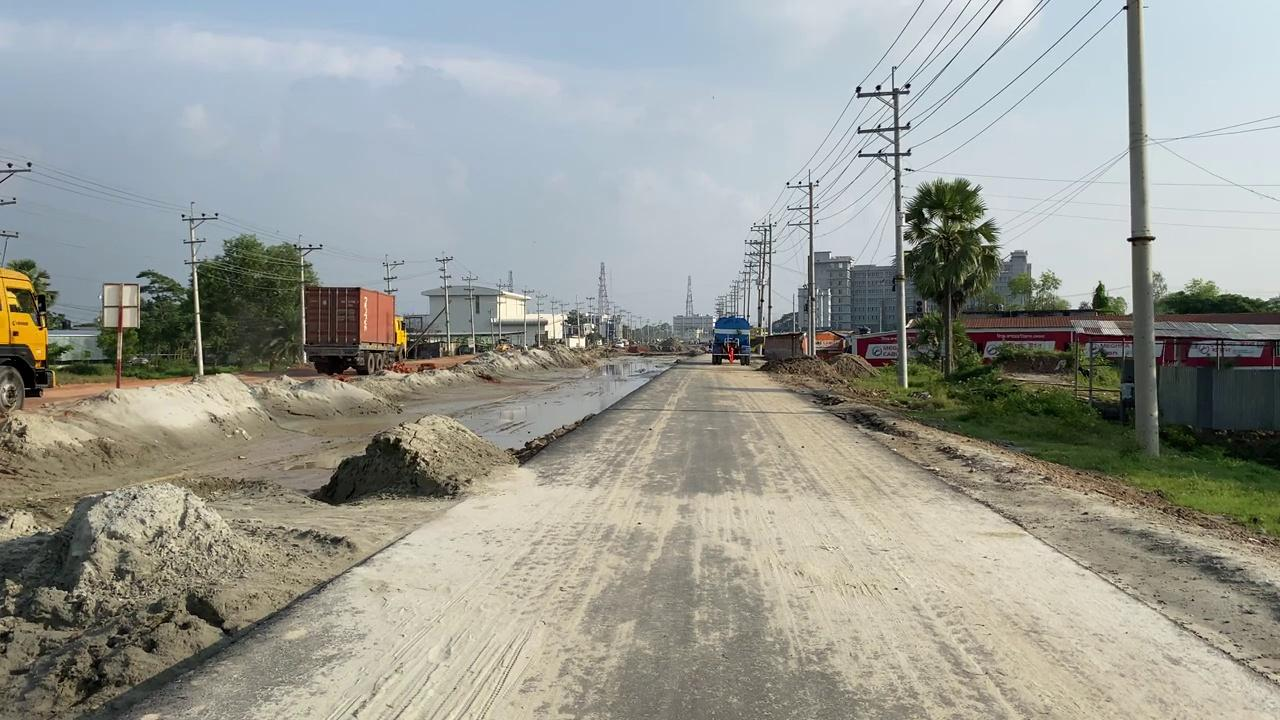Pole: (1124, 0, 1160, 459)
Sidewalk: (78, 351, 680, 716)
Traffic-sign: (901, 175, 1003, 379)
Tree: (301, 284, 410, 375), (0, 265, 53, 412), (710, 312, 752, 364)
